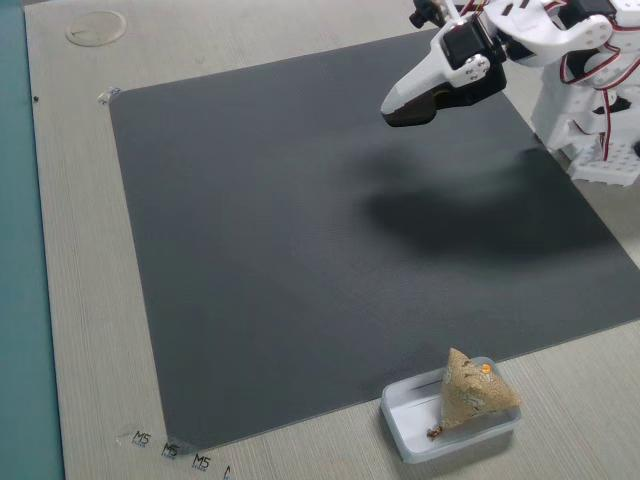gripper: (383, 23, 504, 136)
